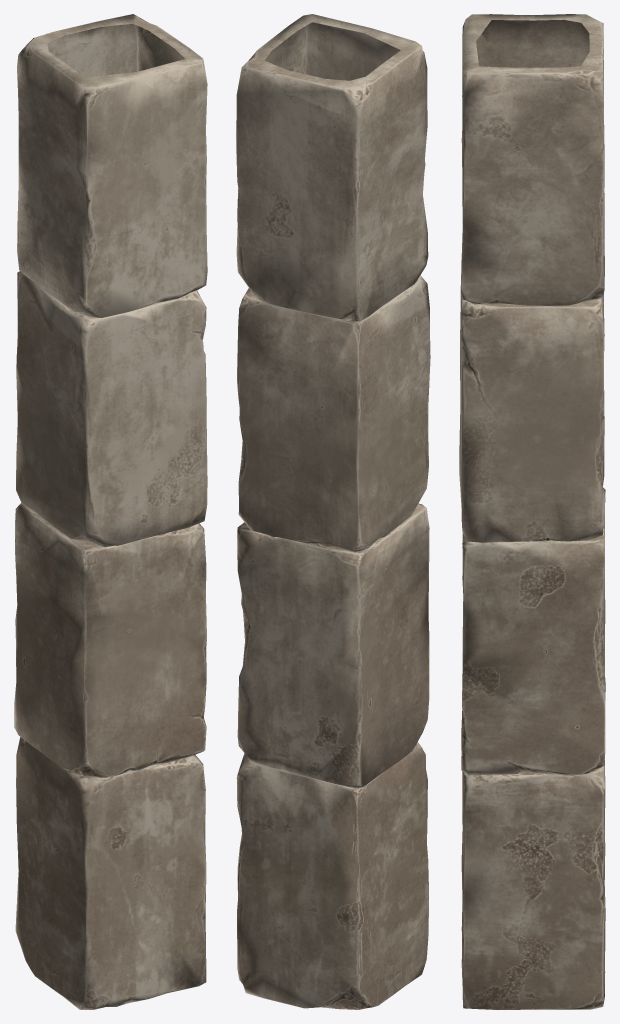
File: SM_TemplePillars_1.fbx
3 renders of one model, left to right at view 1: azimuth 30°, elevation 25°; view 2: azimuth 150°, elevation 25°; view 3: azimuth 270°, elevation 25°, orthographic.
Visible parts, largest first — view 1: TemplePillar1_piece3, TemplePillar1_piece4, TemplePillar1_piece1, TemplePillar1_piece2; view 2: TemplePillar1_piece3, TemplePillar1_piece4, TemplePillar1_piece1, TemplePillar1_piece2; view 3: TemplePillar1_piece3, TemplePillar1_piece1, TemplePillar1_piece2, TemplePillar1_piece4.
Part boxes in pixels (x1,y1,x2,y2): TemplePillar1_piece3: (17, 14, 207, 317); TemplePillar1_piece4: (14, 503, 206, 777); TemplePillar1_piece1: (16, 271, 207, 547); TemplePillar1_piece2: (15, 737, 206, 1009); TemplePillar1_piece3: (236, 14, 428, 321); TemplePillar1_piece4: (237, 503, 429, 788); TemplePillar1_piece1: (237, 275, 430, 552); TemplePillar1_piece2: (236, 742, 428, 1009); TemplePillar1_piece3: (460, 14, 604, 305); TemplePillar1_piece1: (459, 260, 604, 542); TemplePillar1_piece2: (461, 765, 605, 1009); TemplePillar1_piece4: (461, 487, 605, 775).
Bounding box in the file's own units: 168 × 1192 × 168.
